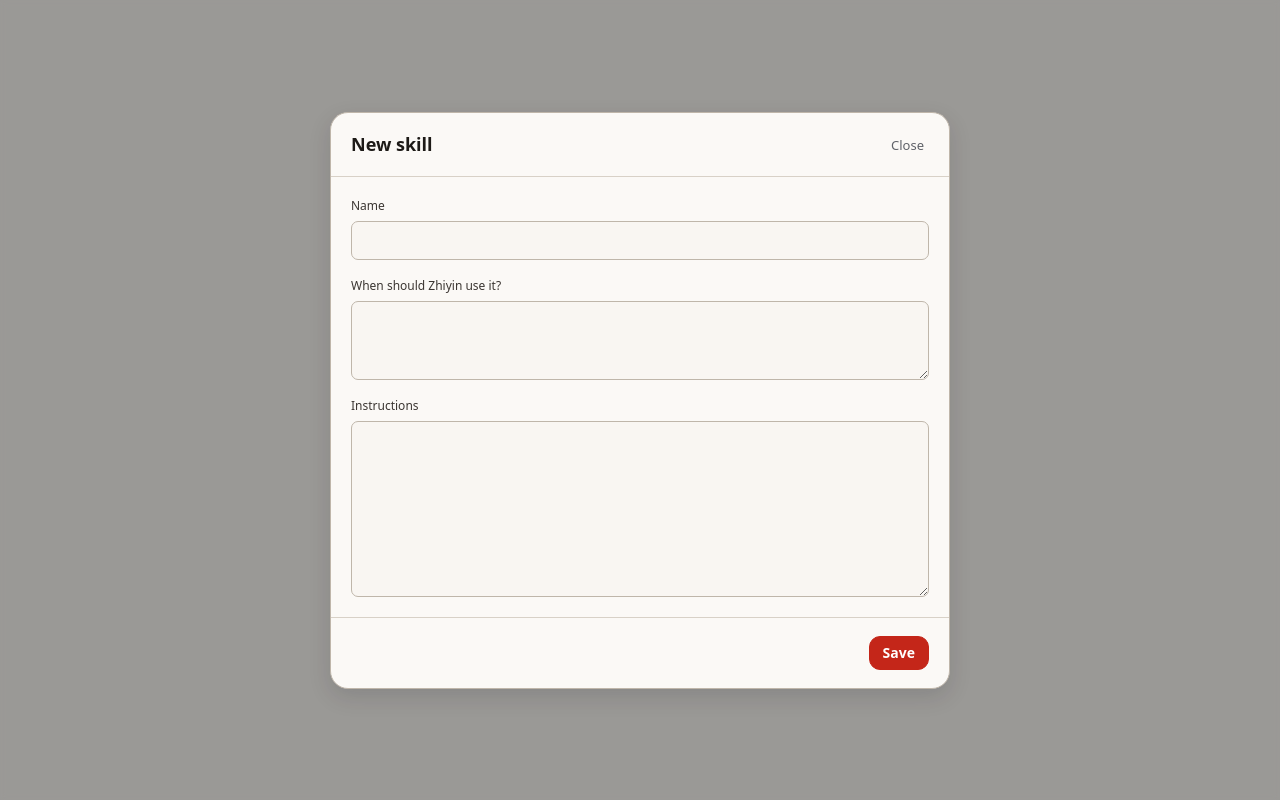
Test: ComponentEditor › says what a new skill's folder will be named
In the field labelled "Name": (640, 240) [351,220,929,260], type "Fetch Forecast"
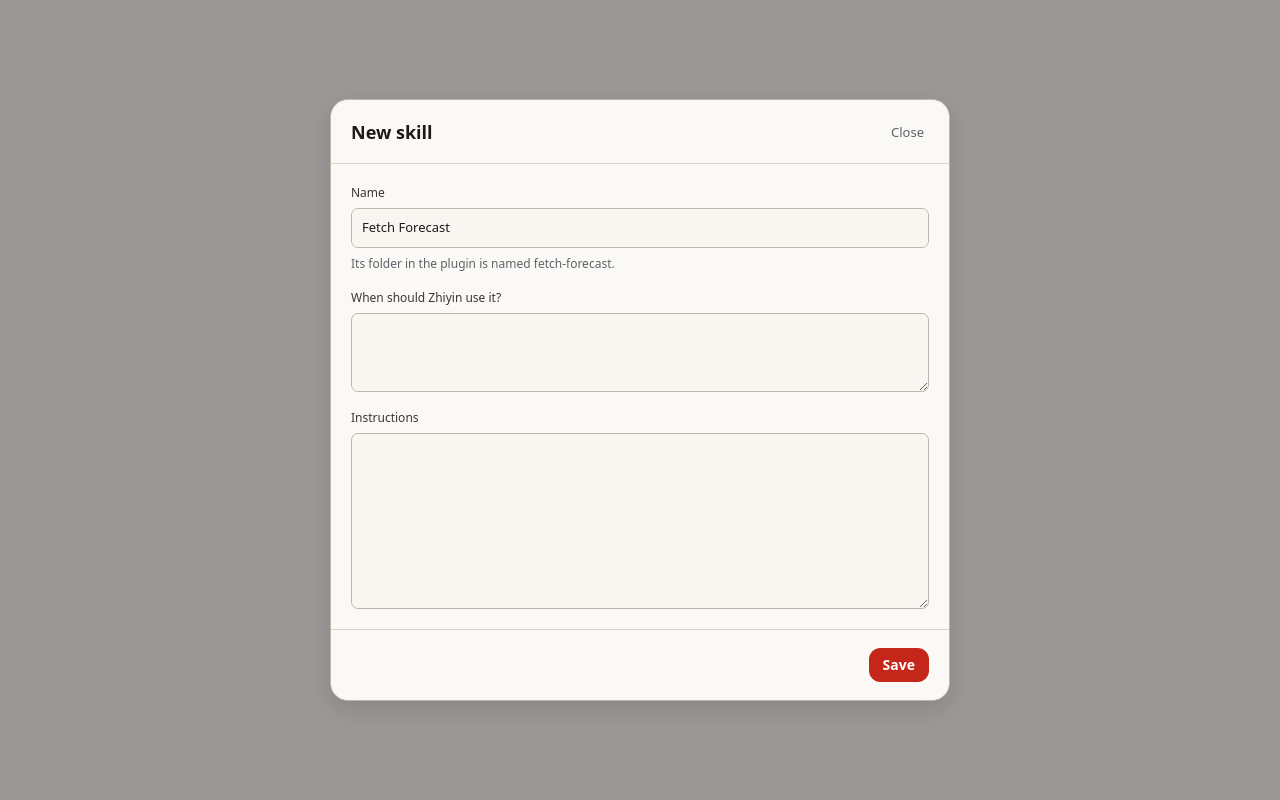
Now the text "Its folder in the plugin is named fetch-forecast." is shown, box [351,255,615,272]
